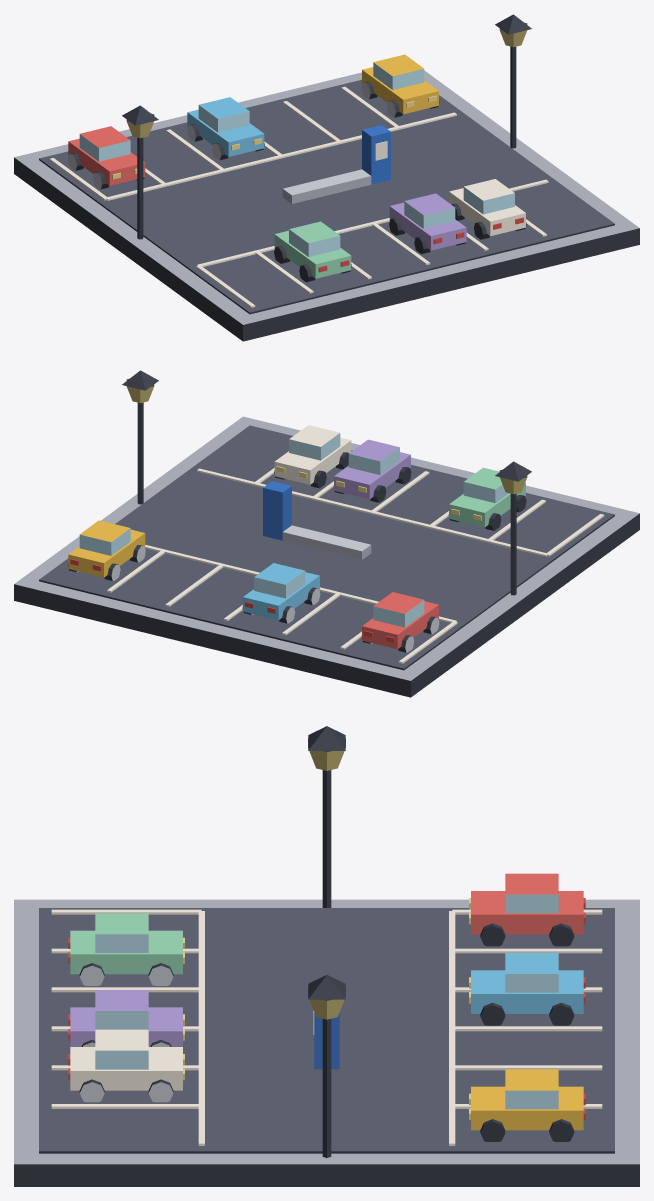
Rendered from parking_lot.glb.
3 views of the same model, one above another, from view 1: azimuth 30°, elevation 25°; view 2: azimuth 150°, elevation 25°; view 3: azimuth 270°, elevation 25° (orthographic). The views are drawn at different scales.
Visible parts, largest first — view 1: parking_lot; view 2: parking_lot; view 3: parking_lot.
Boxes of the visible parts, left/top/right/bottom form: parking_lot: left=14, top=14, right=639, bottom=341; parking_lot: left=14, top=370, right=639, bottom=697; parking_lot: left=14, top=726, right=639, bottom=1186.
Bounding box in the file's own units: 1.01 × 0.36 × 1.
